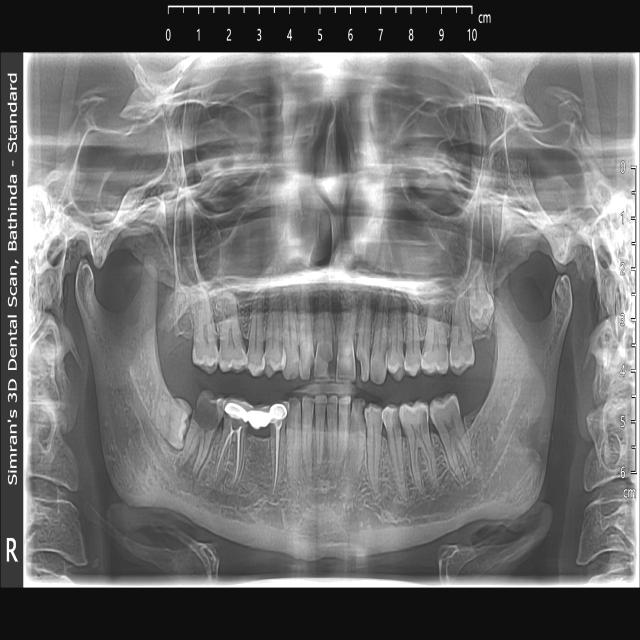Caries: (192, 396, 218, 431), (351, 399, 365, 425)
Crown: (225, 401, 286, 432)
Missing teeth: (249, 434, 268, 484)
Periapical lesion: (175, 455, 192, 475)
Root Canal Treatment: (211, 398, 250, 492), (269, 407, 287, 500)
impacted tooth: (154, 396, 192, 449), (470, 258, 494, 333)
